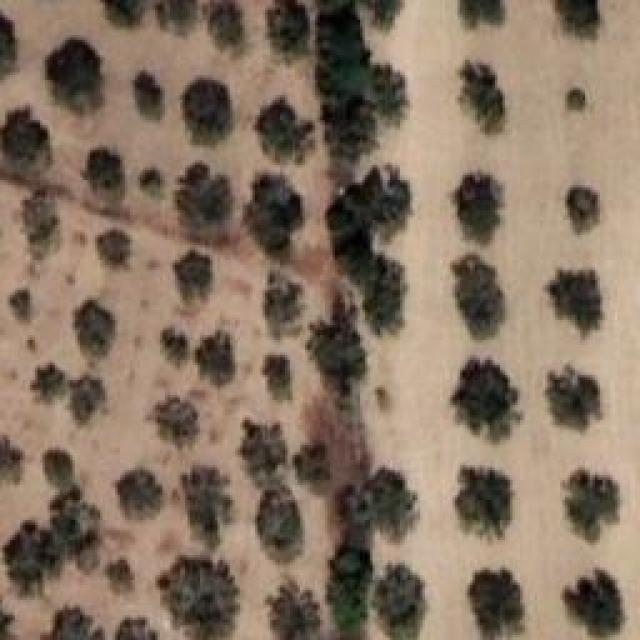Tree: (312, 0, 382, 160), (157, 557, 240, 640), (308, 295, 368, 397), (453, 358, 523, 441), (322, 182, 383, 276), (322, 536, 375, 640), (245, 173, 305, 259), (453, 255, 506, 340), (3, 520, 62, 596), (48, 38, 104, 114), (183, 465, 233, 550), (178, 162, 231, 242), (563, 570, 624, 638), (563, 470, 619, 543), (468, 568, 523, 640), (455, 468, 511, 538), (365, 468, 418, 541), (255, 98, 314, 163), (0, 107, 51, 182), (375, 565, 425, 640), (550, 270, 604, 336), (255, 488, 302, 563), (455, 174, 504, 244), (183, 78, 233, 146), (365, 163, 413, 232), (550, 368, 601, 431), (460, 60, 504, 132), (238, 420, 291, 479), (268, 580, 319, 640), (363, 258, 406, 327), (53, 490, 105, 547), (263, 270, 303, 338), (75, 300, 118, 360), (23, 190, 59, 261), (150, 398, 198, 450), (365, 65, 412, 117), (118, 468, 164, 518), (195, 330, 235, 387), (267, 0, 308, 54), (173, 250, 213, 300), (210, 0, 245, 56), (50, 607, 105, 640), (70, 378, 108, 423), (555, 0, 598, 38), (85, 150, 125, 190), (33, 360, 72, 401), (568, 188, 601, 235), (292, 444, 330, 484), (135, 73, 164, 121), (43, 450, 73, 493), (160, 0, 197, 34), (460, 0, 505, 27), (102, 0, 146, 27), (363, 0, 405, 28), (102, 228, 132, 266), (162, 328, 190, 368), (105, 558, 134, 594), (3, 15, 19, 80), (268, 355, 291, 400), (0, 435, 22, 482), (115, 618, 158, 640), (10, 290, 33, 322), (140, 170, 163, 198), (568, 88, 587, 111)
